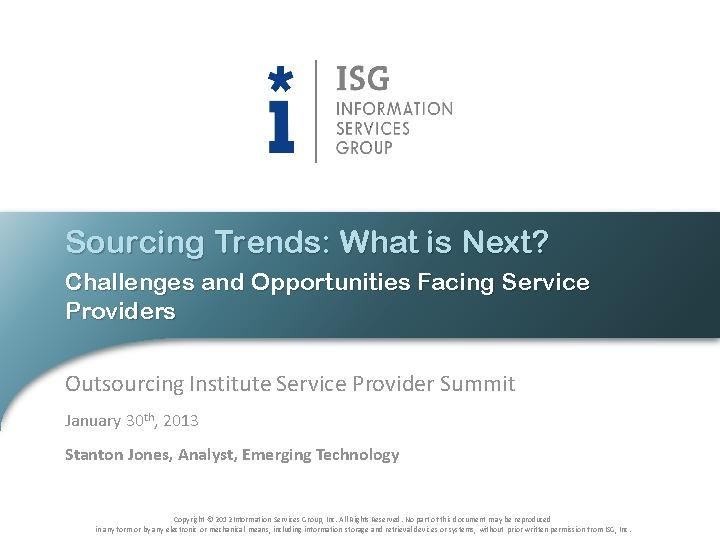subtitle: (52, 355, 621, 497)
title: (31, 211, 645, 346)
